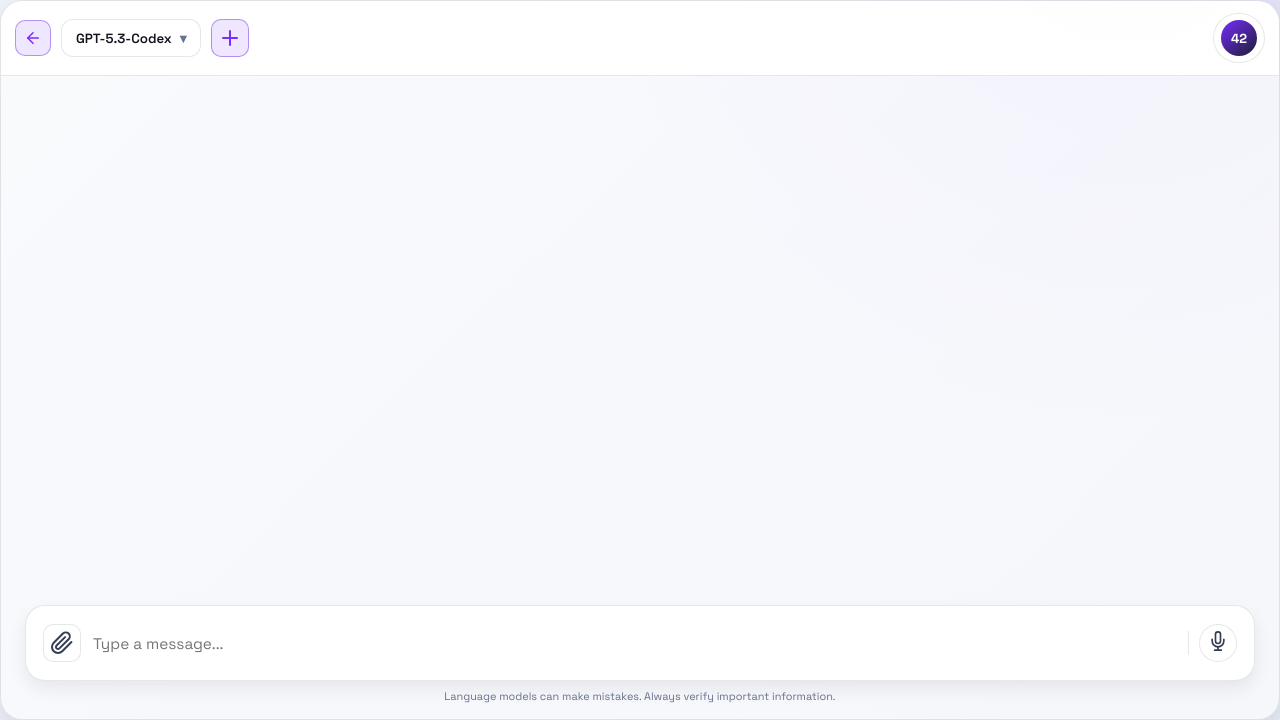
Test case: ChatPanel › shows backend unavailable message when websocket connection cannot be created
This screenshot has width=1280, height=720.
Click the button named "Record audio". click: (1218, 643)
box: [1199,624,1237,662]
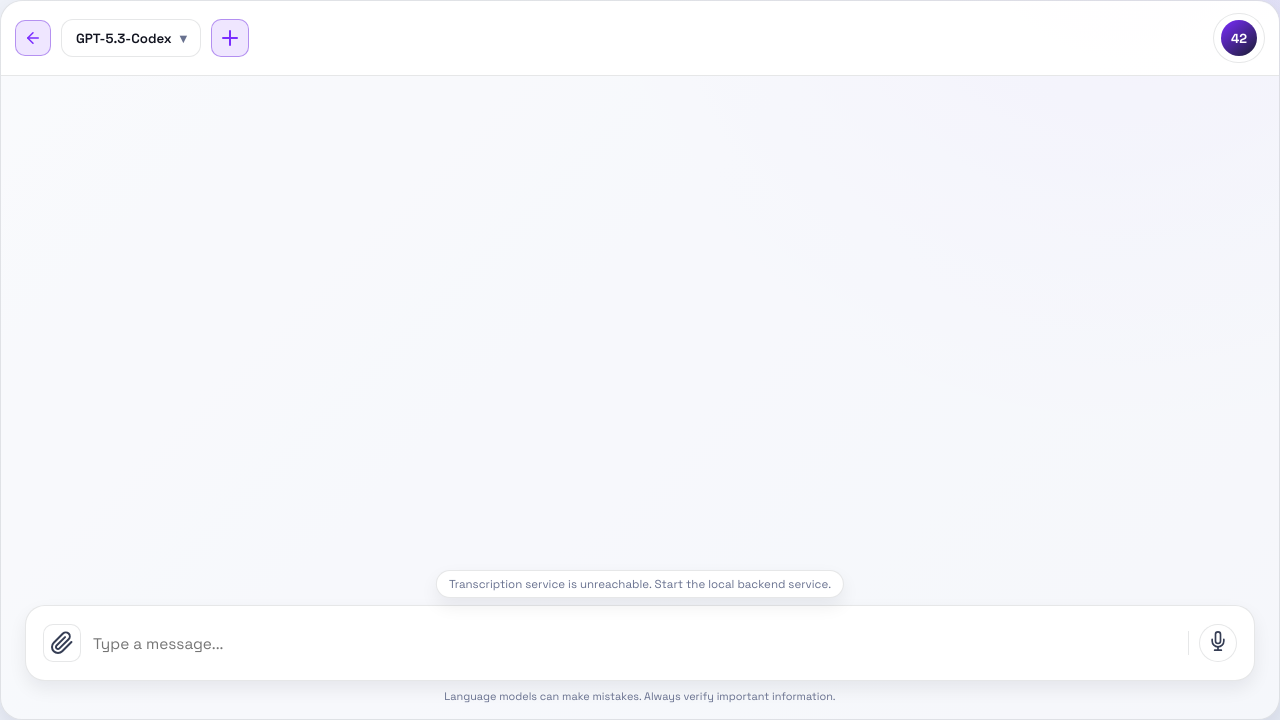
Expected: the text "Transcription service is unreachable. Start the local backend service." is shown, [436,570,844,598]
